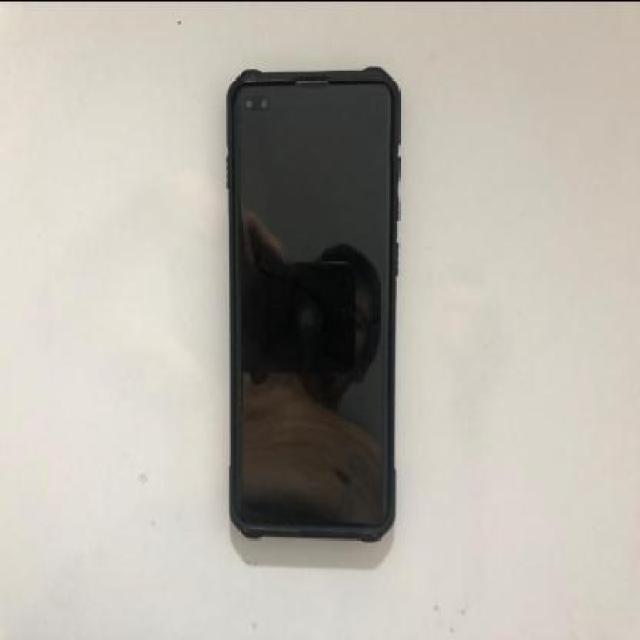phone: (227, 66, 401, 540)
